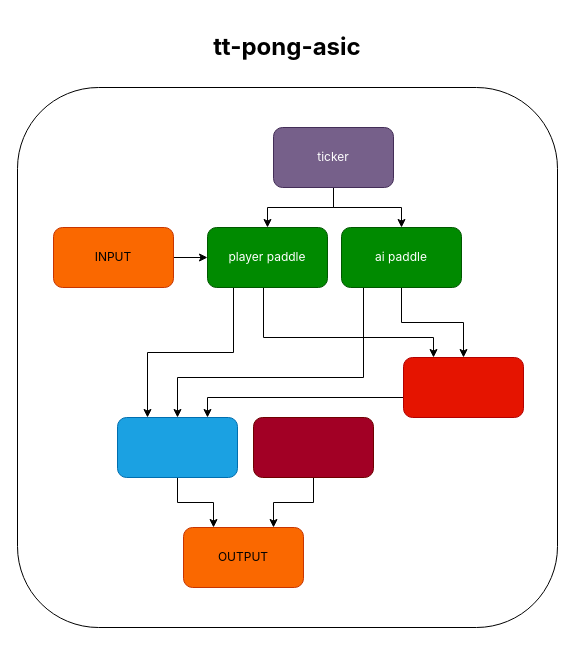
Image size: 575x645. Some labels were removed from this diagram. Each missing label, with the centre of its shape:
"ball" belongs at (x=463, y=387).
"renderer" belongs at (x=177, y=447).
"vga_controller" belongs at (x=313, y=447).
